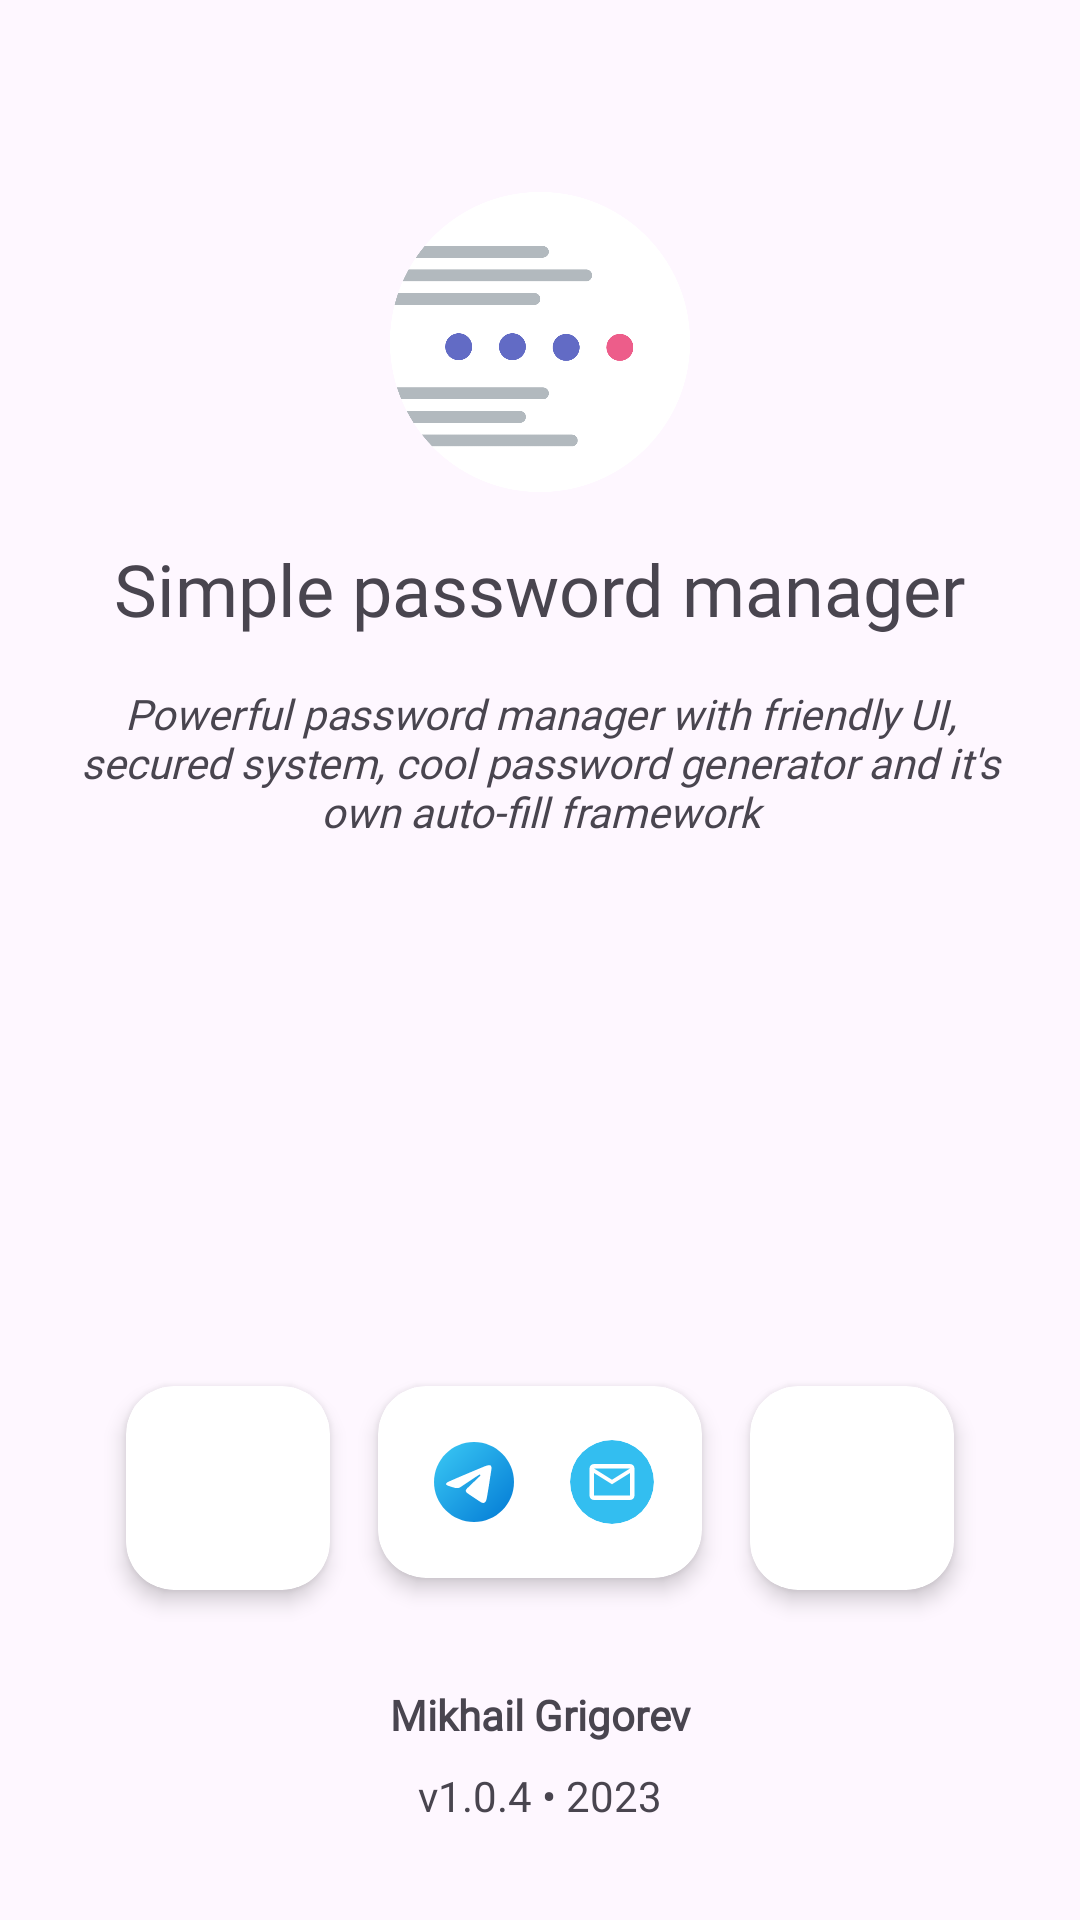

Icons on this 1080×1920 Android screen, each with its box as [x1, y1, x2, y2]:
contact mail: [570, 1440, 654, 1524]
